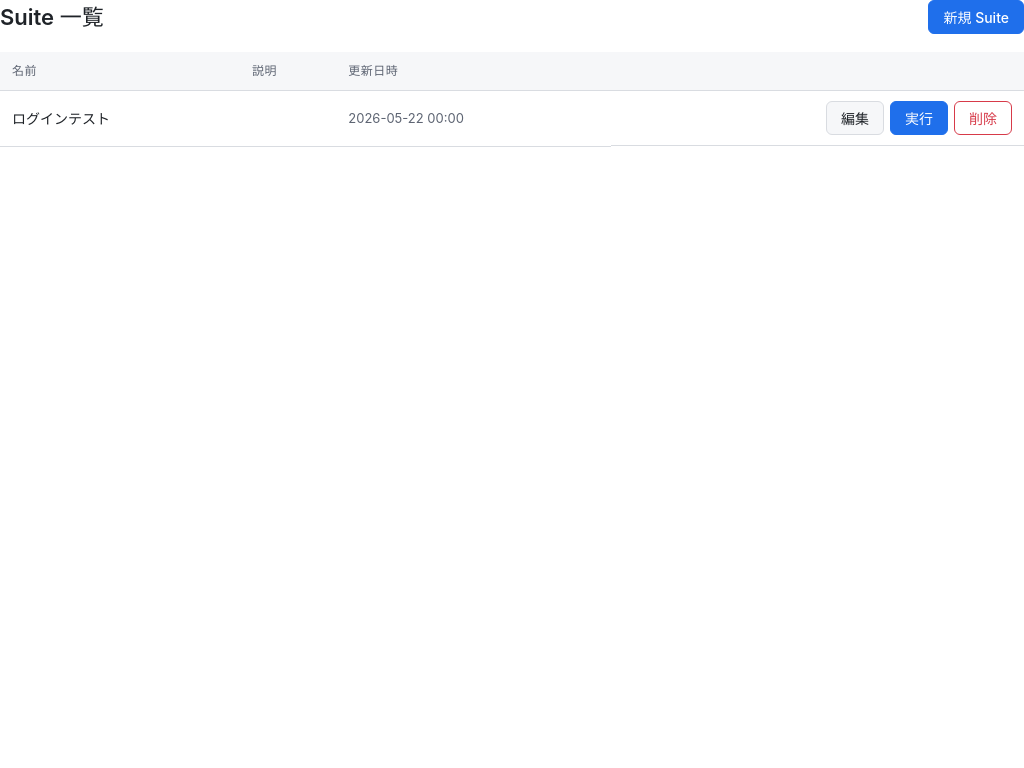
Test: SuiteListPage › 削除ボタンを押すと確認ダイアログが出る
What coordinates should you click on to do the following:
click the button "削除"
I would click on:
 (983, 118)
Its box is [954,101,1012,135].
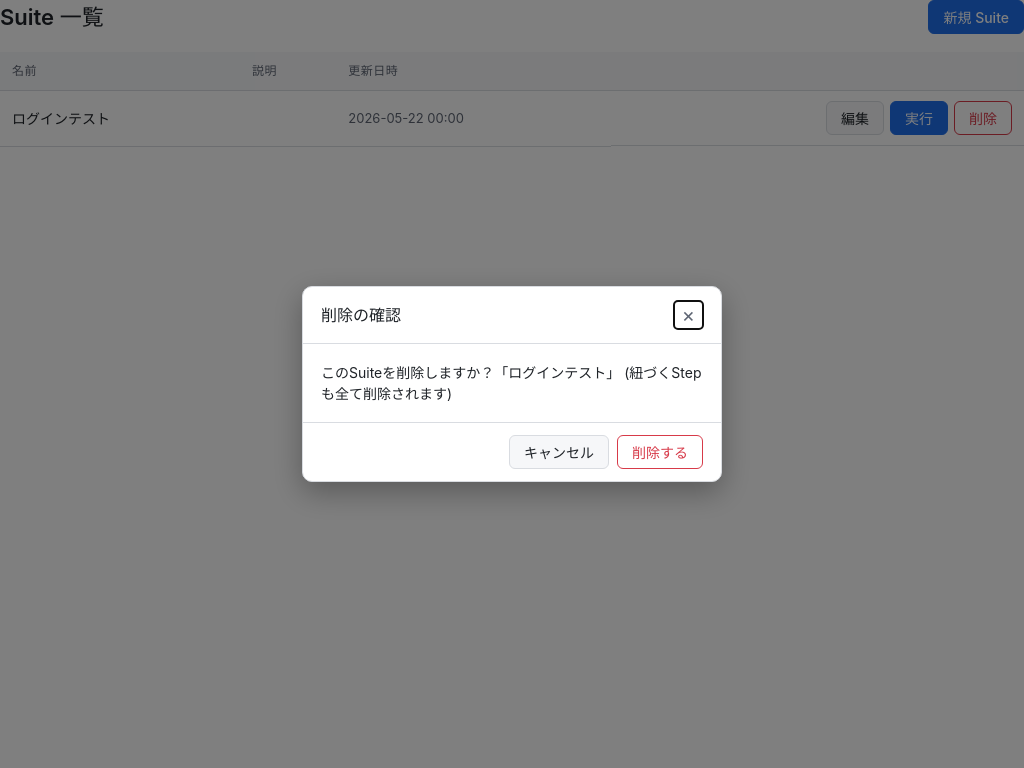
Expected: the text "このSuiteを削除しますか？「ログインテスト」 (紐づくStepも全て削除されます)" is shown, [321,362,703,404]
